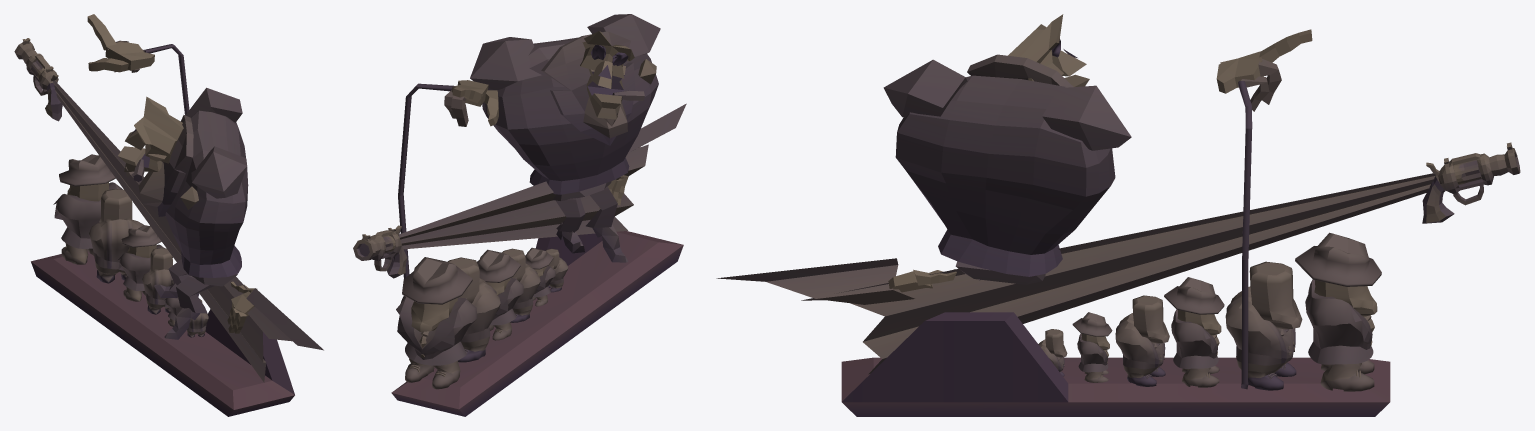
Rendered from SM_StatueBoss-C.fbx.
The picture shows the model from 3 angles, left to right: view 1: azimuth 30°, elevation 25°; view 2: azimuth 150°, elevation 25°; view 3: azimuth 270°, elevation 25°; orthographic projection. The views are drawn at different scales.
Parts seen in each view (by area): view 1: SM_StatueBOSS_Visionary; view 2: SM_StatueBOSS_Visionary; view 3: SM_StatueBOSS_Visionary.
Part boxes in pixels (bbox=[...]): SM_StatueBOSS_Visionary: bbox=[14, 14, 323, 416]; SM_StatueBOSS_Visionary: bbox=[353, 14, 686, 416]; SM_StatueBOSS_Visionary: bbox=[716, 14, 1520, 416].
Size of the model in its own units: 217 by 799 by 401.
